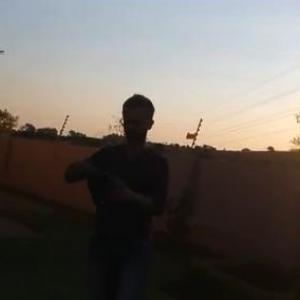follow: (57, 82, 176, 299)
